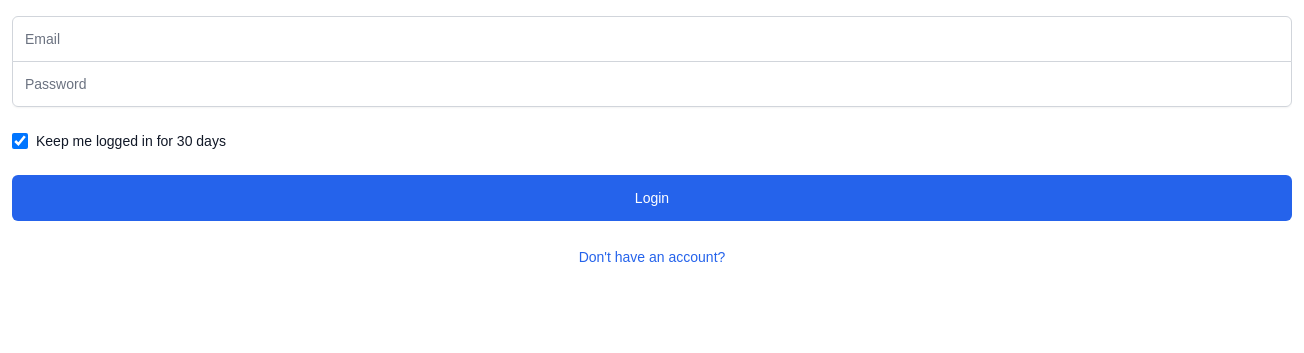
Test case: LoginForm › Form Validation › should show error for invalid email format
Type "invalid-email" into the field with placeholder "Email" at (652, 39), box [12,16,1292,62]
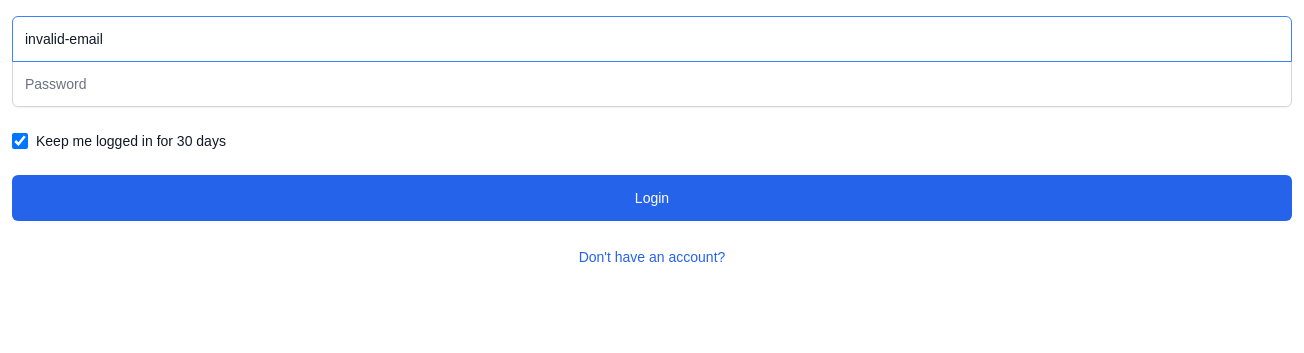
Type "password123" into the password field with placeholder "Password" at (652, 84), box [12,61,1292,107]
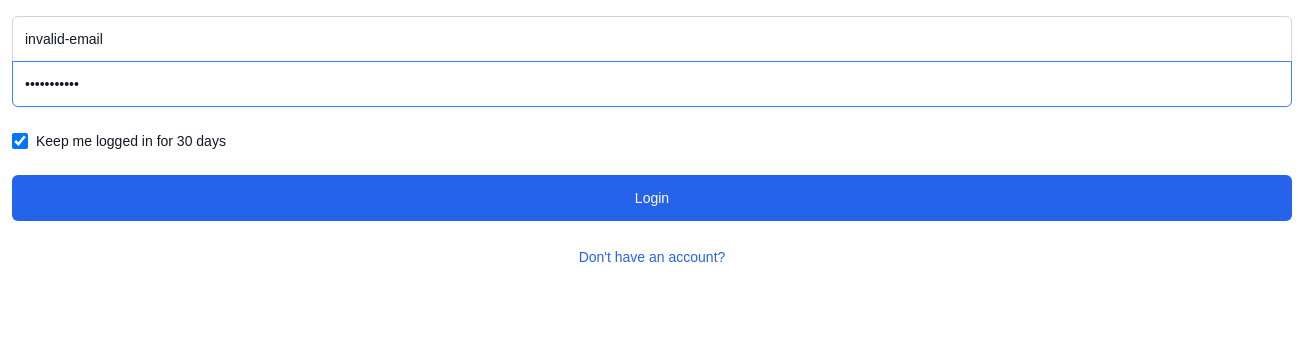
Click the button "Login" at (652, 198), box [12,175,1292,221]
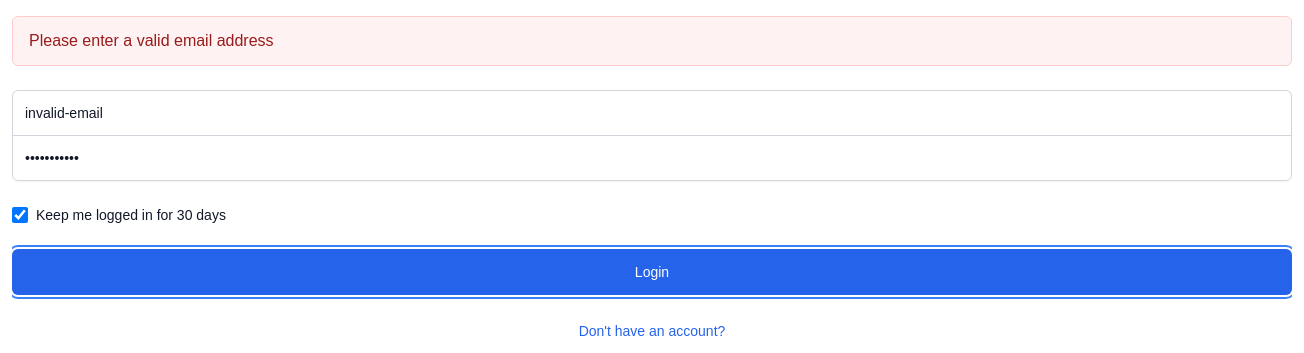
Result: the text "Please enter a valid email address" is shown at [12,16,1292,66]
